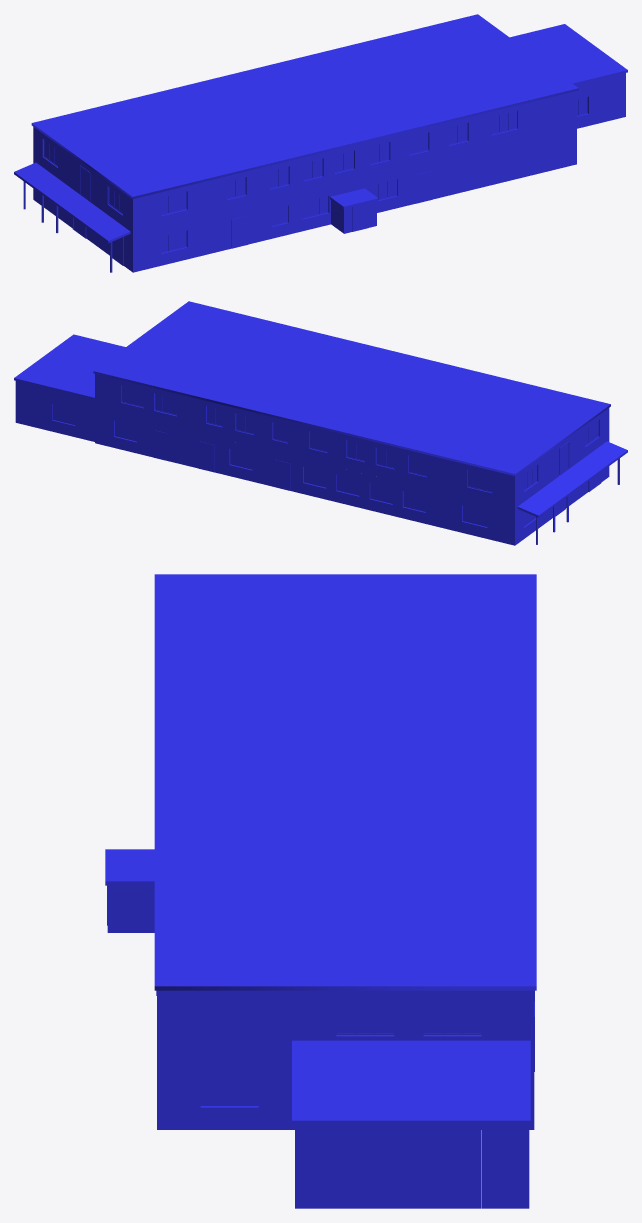
The model's file is Building_04.fbx.
The picture shows the model from 3 angles, top to bottom: view 1: azimuth 30°, elevation 25°; view 2: azimuth 150°, elevation 25°; view 3: azimuth 270°, elevation 25°; orthographic projection. The views are drawn at different scales.
Parts seen in each view (by area): view 1: Building_04; view 2: Building_04; view 3: Building_04.
Part boxes in pixels (box(x1,y1,x2,y2)): Building_04: box(14, 14, 627, 272); Building_04: box(14, 301, 627, 545); Building_04: box(105, 574, 536, 1208).
Bounding box in the file's own units: 4994 × 660 × 1784.
